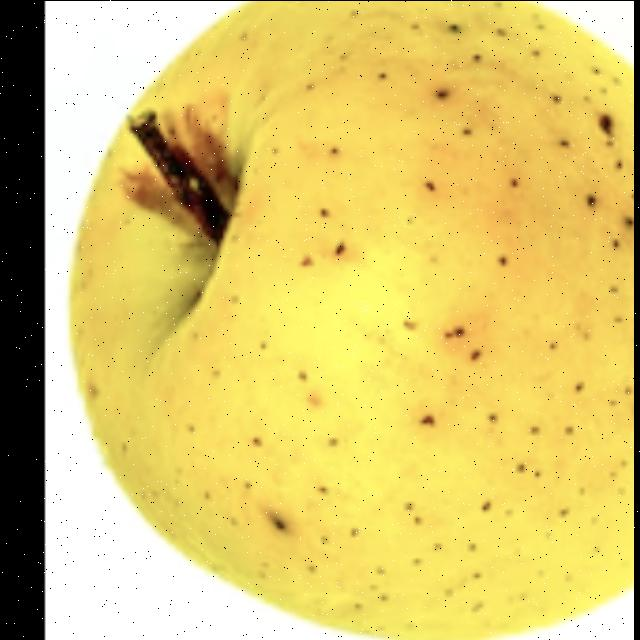Apel Tidak Segar: (59, 0, 633, 640)
